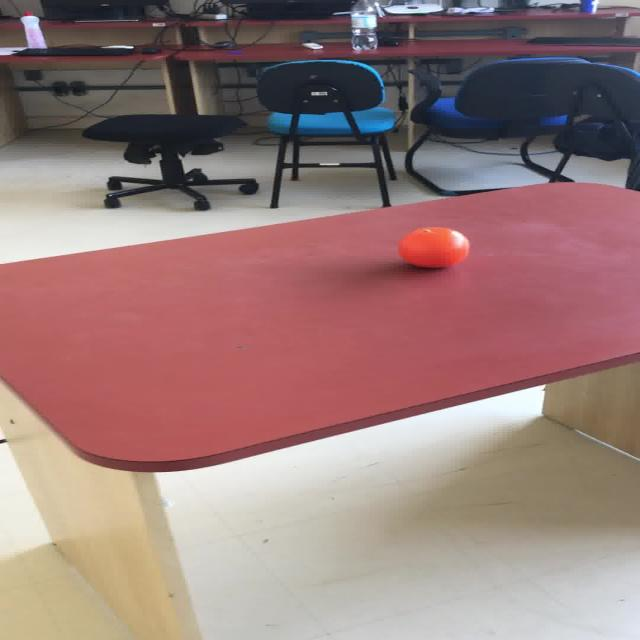orange: (397, 226, 469, 268)
